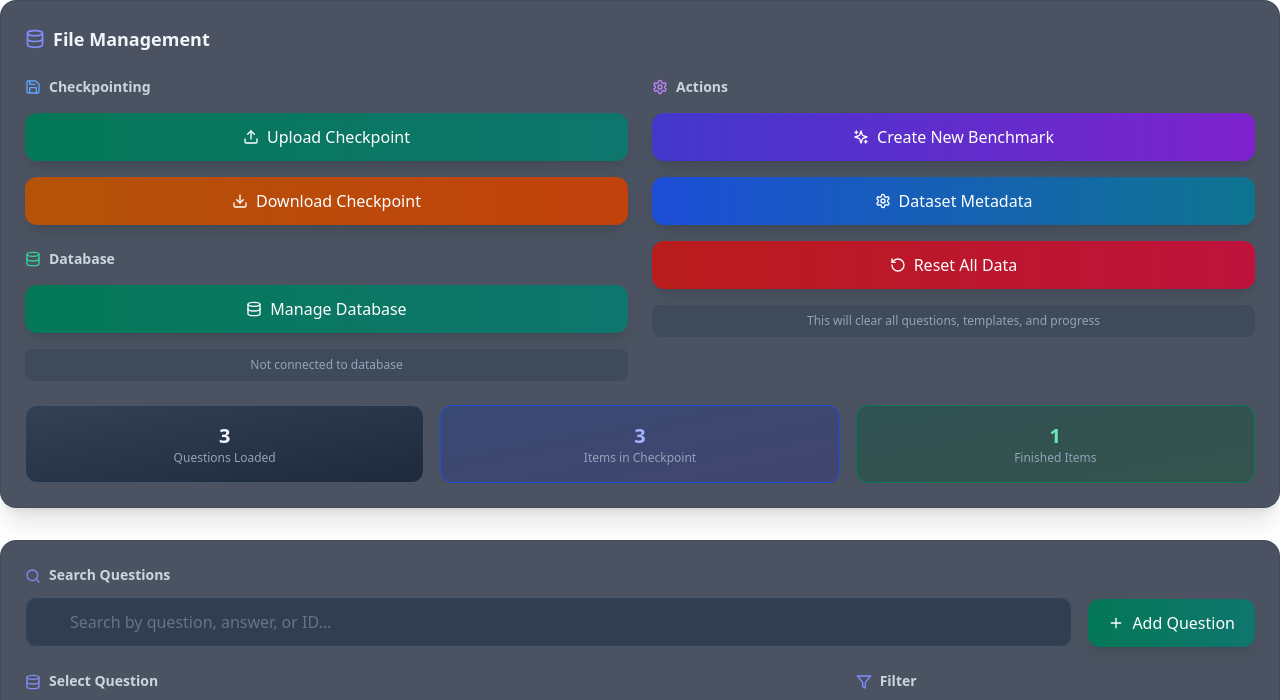
Test: Question Navigation Integration Tests › integ-011: Question search and filter by status › should show no results message when search matches nothing
Enter search term that matches nothing
Type "nonexistent" into the field with placeholder "Search by question, answer, or ID...". click: (549, 622)
box: [25, 597, 1072, 647]
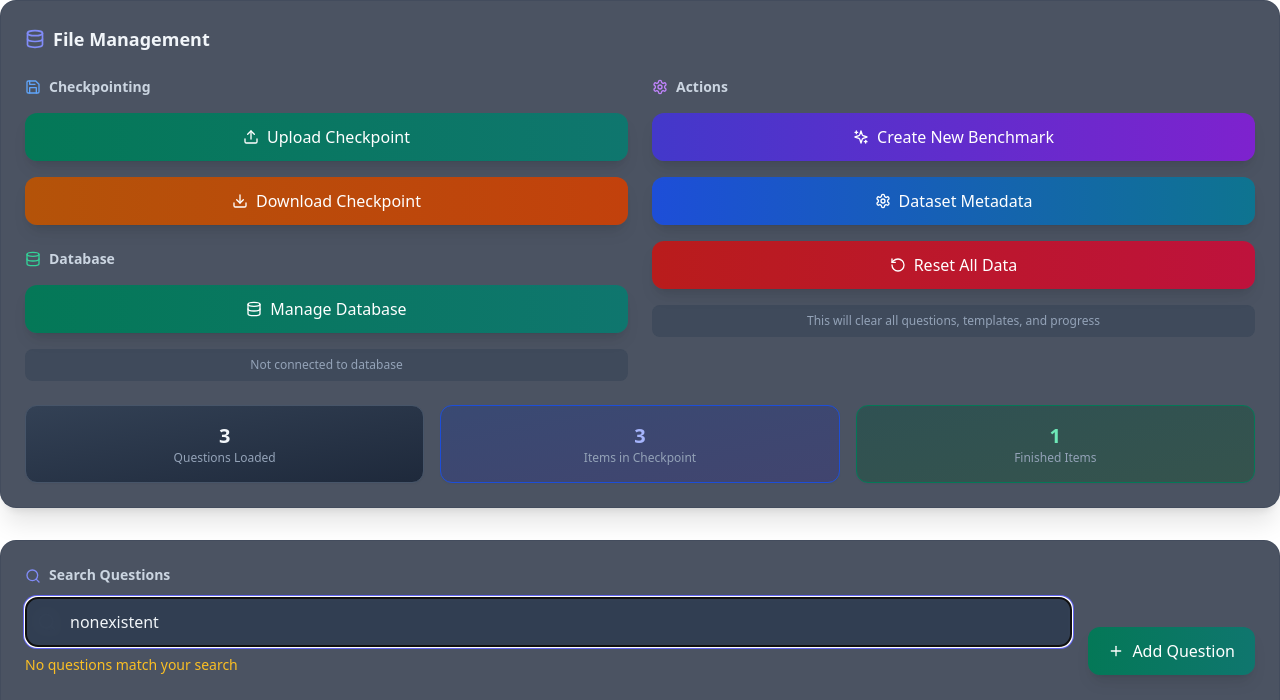
Expected: the text "No questions match your search" is shown, [25, 655, 238, 674]
